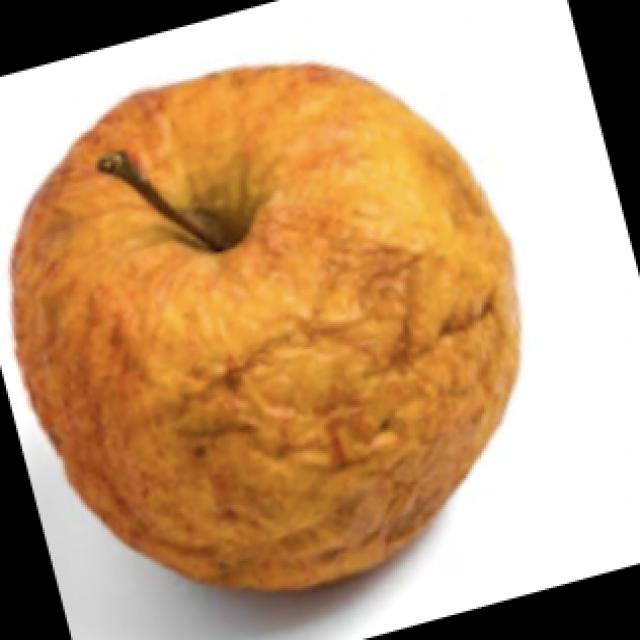Rotten: (12, 60, 513, 598)
